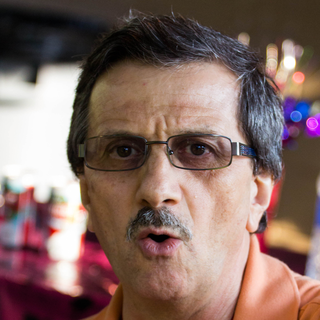eye: (176, 136, 221, 165), (100, 138, 143, 163)
